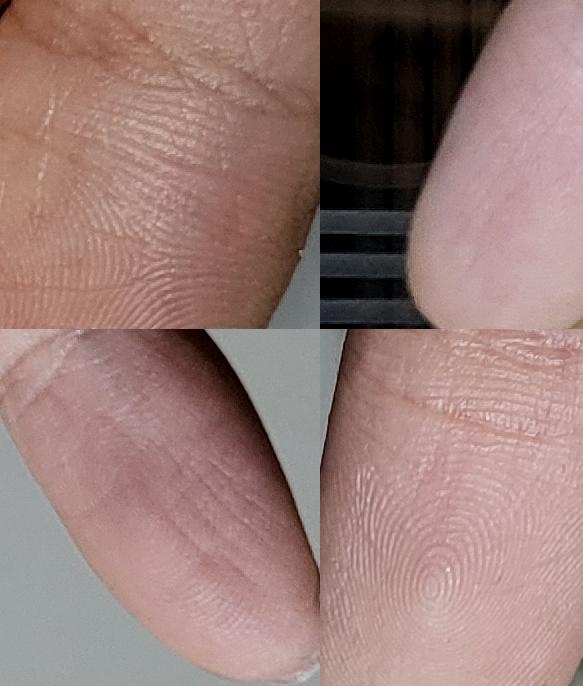Fingerprints: (6, 329, 320, 683), (0, 0, 320, 329), (320, 329, 583, 686), (403, 0, 583, 329)
